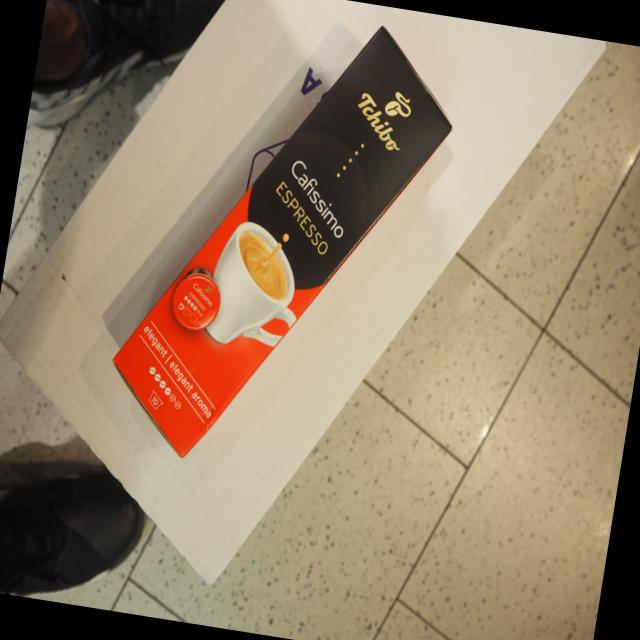Simo Es Elegant: (106, 20, 458, 466)
